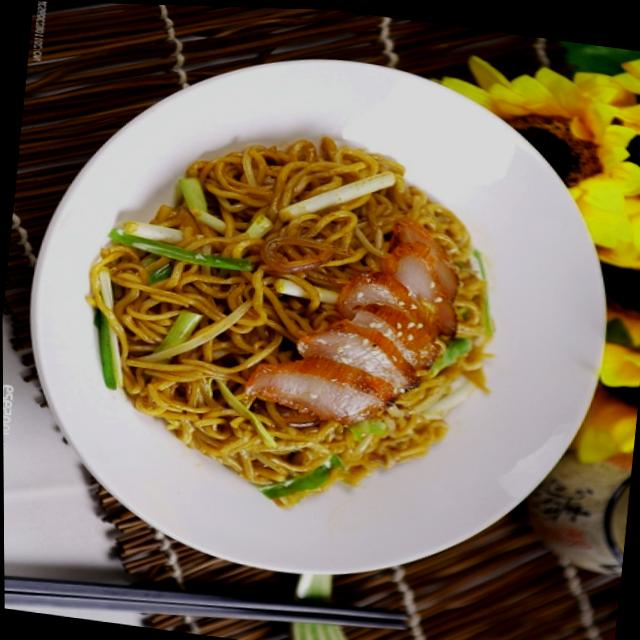面条主食: (12, 56, 590, 584)
